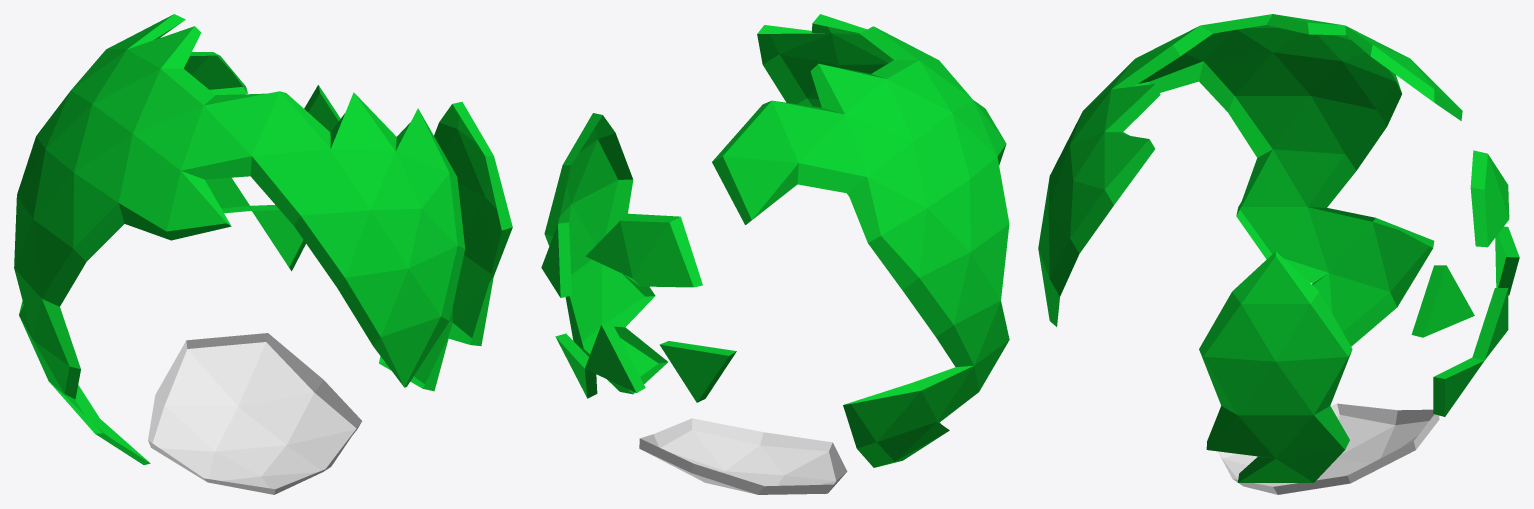
Rendered from planet.fbx.
3 renders of one model, left to right at view 1: azimuth 30°, elevation 25°; view 2: azimuth 150°, elevation 25°; view 3: azimuth 270°, elevation 25°, orthographic. The views are drawn at different scales.
Parts seen in each view (by area): view 1: Icosphere; view 2: Icosphere; view 3: Icosphere.
Boxes of the visible parts, x1=… form: Icosphere: x1=14, y1=14, x2=512, y2=494; Icosphere: x1=541, y1=14, x2=1009, y2=494; Icosphere: x1=1038, y1=14, x2=1519, y2=494.
Bounding box in the file's own units: 207 × 201 × 205.
